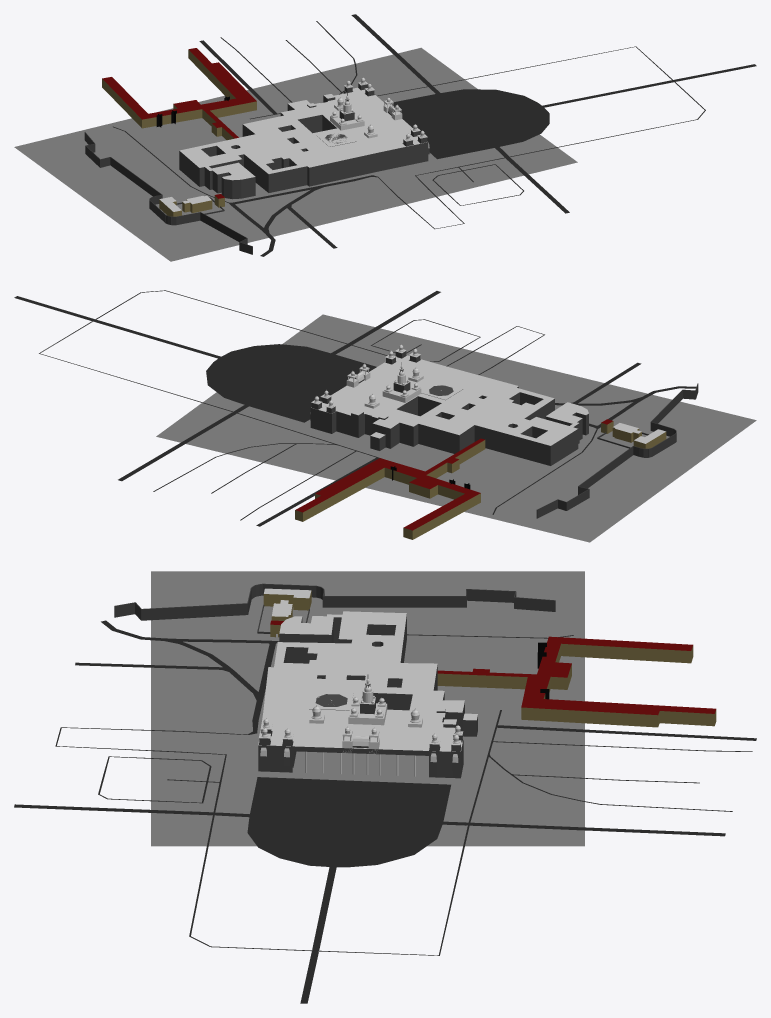
Rendered from map.obj.
3 renders of one model, top to bottom at view 1: azimuth 30°, elevation 25°; view 2: azimuth 150°, elevation 25°; view 3: azimuth 270°, elevation 25°, orthographic. The views are drawn at different scales.
Visible parts, largest first — view 1: SurfaceArea122, Building Mysore Palace, RoadArea115, SurfaceArea123, Building120, Building119, Building121, Road72, Wall24, Building116; view 2: SurfaceArea122, Building Mysore Palace, RoadArea115, SurfaceArea123, Building120, Building121, Building119, Road72, Wall24, Road46; view 3: SurfaceArea122, Building Mysore Palace, RoadArea115, SurfaceArea123, Building120, Building119, Wall24, Building121, Wall34, Road72, Road80, Building118.
Part boxes in pixels (x1,y1,x2,y2): SurfaceArea122: [14, 64, 509, 261]; Building Mysore Palace: [179, 77, 429, 199]; RoadArea115: [386, 89, 549, 159]; SurfaceArea123: [353, 47, 577, 178]; Building120: [102, 48, 248, 128]; Building119: [207, 62, 256, 117]; Building121: [202, 108, 238, 140]; Road72: [351, 14, 431, 85]; Wall24: [110, 157, 162, 196]; Building116: [182, 195, 212, 212]; SurfaceArea122: [228, 332, 756, 542]; Building Mysore Palace: [310, 344, 588, 465]; RoadArea115: [206, 344, 376, 422]; SurfaceArea123: [156, 314, 394, 454]; Building120: [295, 461, 480, 539]; Building121: [422, 438, 485, 478]; Building119: [315, 458, 424, 498]; Road72: [118, 412, 235, 481]; Wall24: [578, 446, 633, 488]; Road46: [95, 320, 220, 358]; SurfaceArea122: [151, 571, 584, 800]; Building Mysore Palace: [258, 611, 477, 778]; RoadArea115: [247, 777, 450, 867]; SurfaceArea123: [151, 800, 584, 846]; Building120: [528, 636, 716, 726]; Building119: [521, 677, 659, 727]; Wall24: [323, 596, 466, 607]; Building121: [437, 668, 536, 689]; Wall34: [141, 603, 247, 620]; Road72: [472, 822, 725, 836]; Road80: [499, 725, 756, 740]; Building118: [263, 588, 311, 610].
Bounding box in the file's own units: 566 × 42 × 411.
